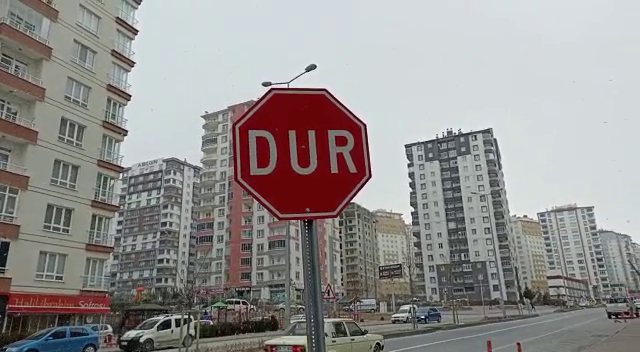stop: (226, 83, 378, 224)
